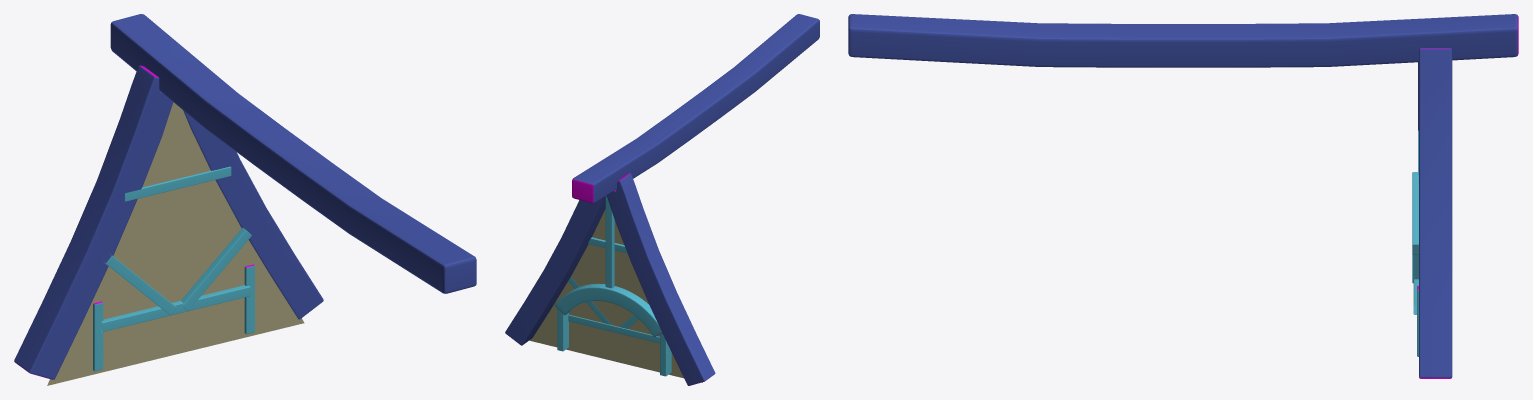
The model's file is SM_Hous1Front_3Floor_R.fbx.
3 renders of one model, left to right at view 1: azimuth 30°, elevation 25°; view 2: azimuth 150°, elevation 25°; view 3: azimuth 270°, elevation 25°, orthographic. The views are drawn at different scales.
Visible parts, largest first — view 1: SM_Hous1Front_3Floor; view 2: SM_Hous1Front_3Floor; view 3: SM_Hous1Front_3Floor.
Part boxes in pixels (x1,y1,x2,y2): SM_Hous1Front_3Floor: (14, 14, 476, 385); SM_Hous1Front_3Floor: (505, 14, 819, 385); SM_Hous1Front_3Floor: (848, 14, 1518, 378).
Size of the model in its own units: 4.61 by 4.52 by 9.07.
